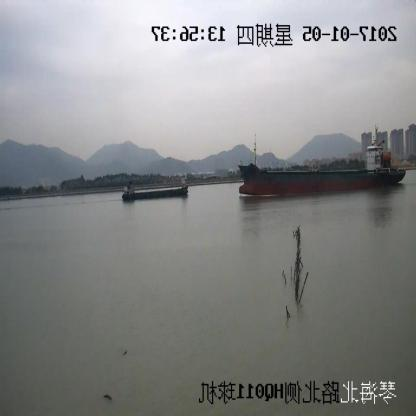Bulk Carrier: (241, 129, 407, 194), (123, 178, 189, 201)
